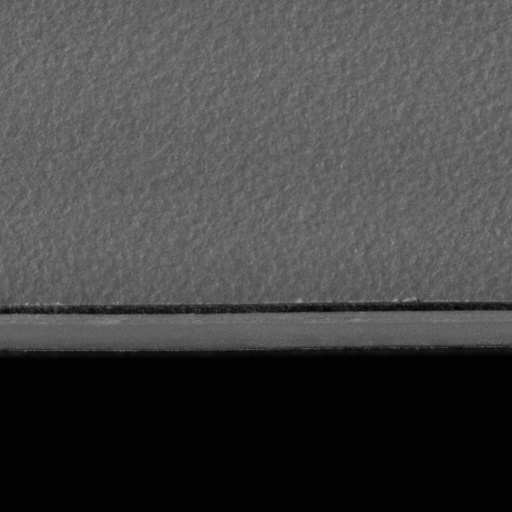jiaofeng: (3, 299, 511, 330)
